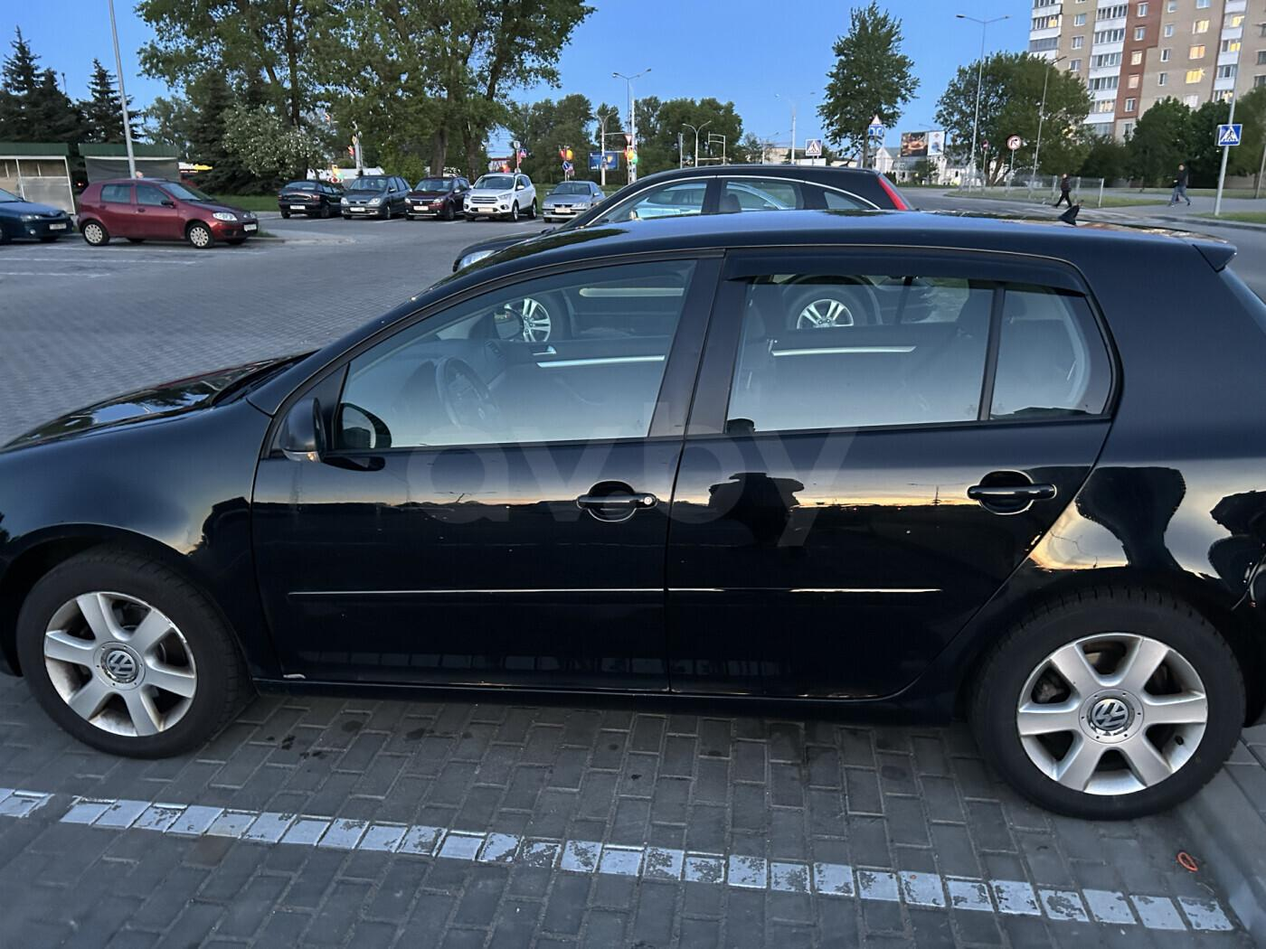Golf_2003-2009: (4, 205, 1266, 833)
